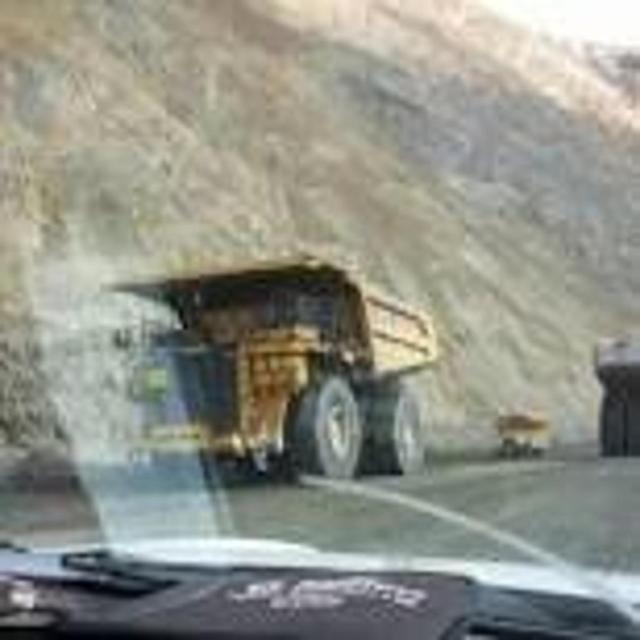dump_truck: (129, 240, 441, 500)
